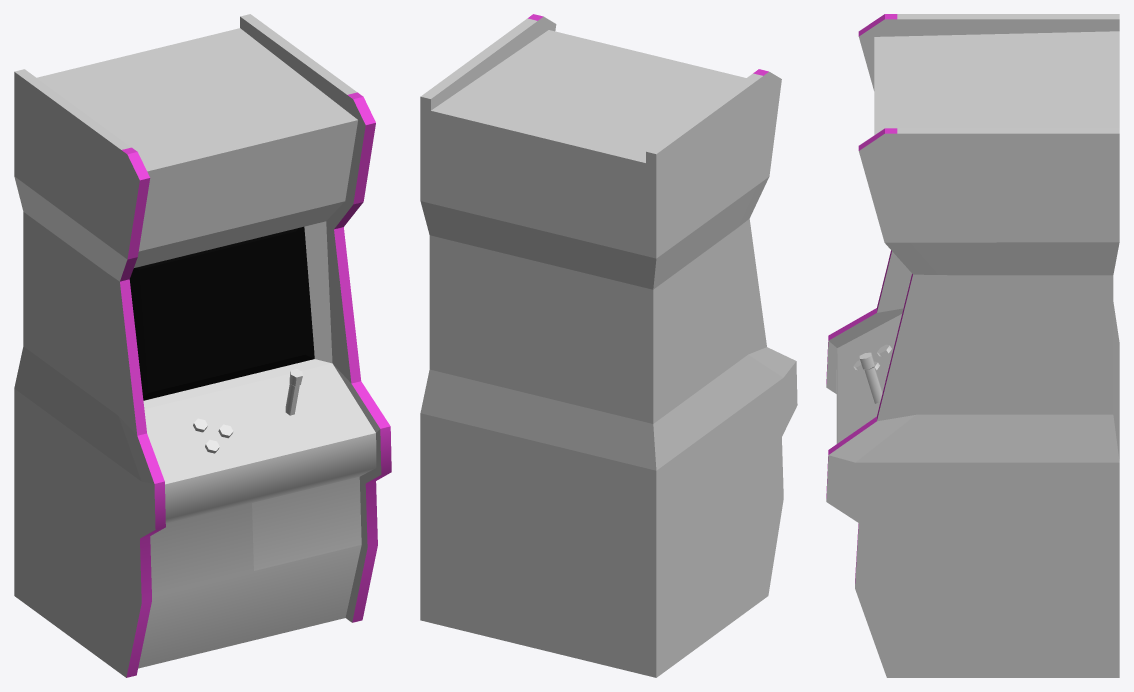
3 views of the same model, side by side, from view 1: azimuth 30°, elevation 25°; view 2: azimuth 150°, elevation 25°; view 3: azimuth 270°, elevation 25° (orthographic). The views are drawn at different scales.
Parts seen in each view (by area): view 1: ArcadeCabinet2Untextured; view 2: ArcadeCabinet2Untextured; view 3: ArcadeCabinet2Untextured.
Boxes of the visible parts, bbox=[...] form: ArcadeCabinet2Untextured: bbox=[14, 14, 391, 677]; ArcadeCabinet2Untextured: bbox=[420, 14, 797, 677]; ArcadeCabinet2Untextured: bbox=[826, 14, 1119, 677].
Size of the model in its own units: 19434 by 41217 by 20129.
